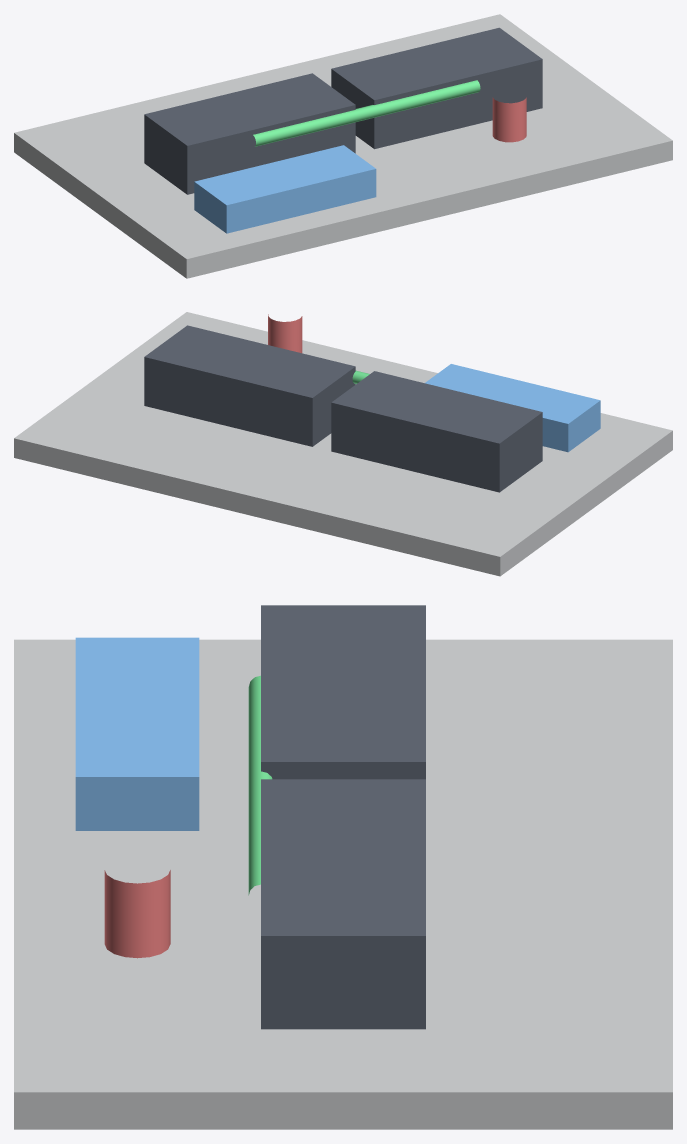
The model's file is digital_logic_design.glb.
3 views of the same model, one above another, from view 1: azimuth 30°, elevation 25°; view 2: azimuth 150°, elevation 25°; view 3: azimuth 270°, elevation 25° (orthographic). The views are drawn at different scales.
Parts seen in each view (by area): view 1: BreadboardPlate, MuxDecoderIC74151, LogicGateIC7408, InputSwitches, JumperWires, OutputLEDs; view 2: BreadboardPlate, LogicGateIC7408, MuxDecoderIC74151, InputSwitches, OutputLEDs; view 3: BreadboardPlate, MuxDecoderIC74151, LogicGateIC7408, InputSwitches, OutputLEDs, JumperWires.
Part boxes in pixels (x1,y1,x2,y2): BreadboardPlate: (14,14,672,278); MuxDecoderIC74151: (331,27,542,149); LogicGateIC7408: (144,73,355,194); InputSwitches: (194,145,376,233); JumperWires: (253,80,480,146); OutputLEDs: (492,97,526,142); BreadboardPlate: (14,312,672,576); LogicGateIC7408: (331,371,542,492); MuxDecoderIC74151: (144,325,355,446); InputSwitches: (425,364,600,452); OutputLEDs: (268,314,302,353); BreadboardPlate: (14,639,672,1129); MuxDecoderIC74151: (261,779,425,1029); LogicGateIC7408: (261,605,425,779); InputSwitches: (75,637,199,830); OutputLEDs: (104,870,170,958); JumperWires: (248,675,272,895).
Bounding box in the file's own units: 2.6 × 0.37 × 1.6.
